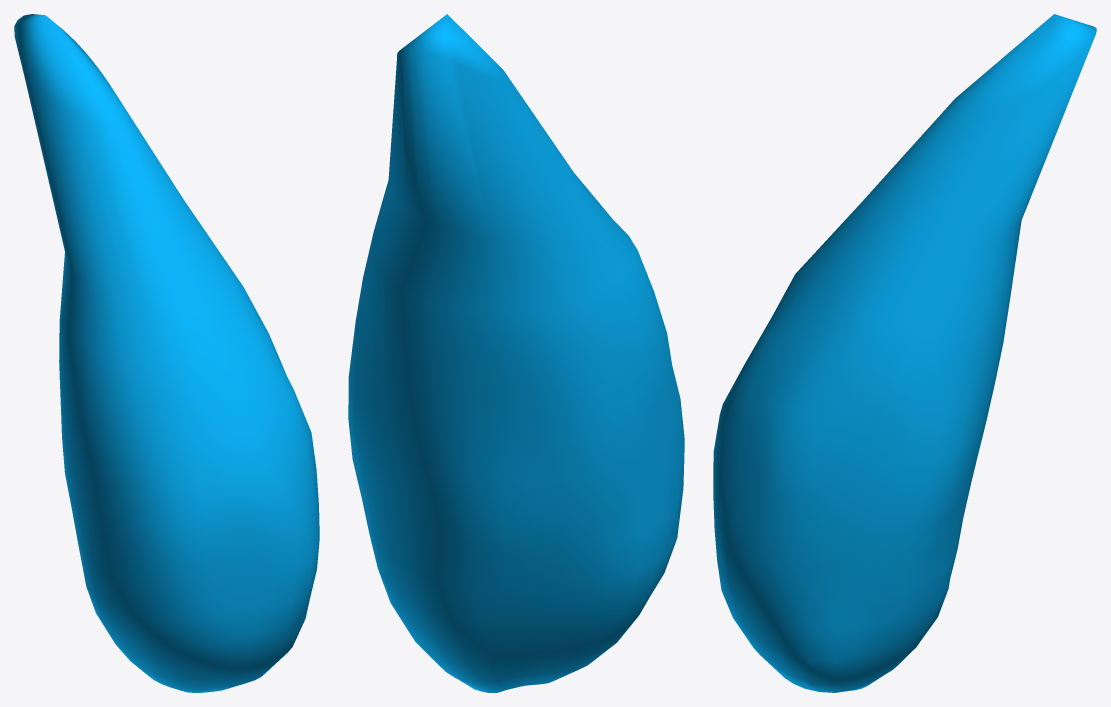
The model's file is drop.fbx.
The picture shows the model from 3 angles, left to right: view 1: azimuth 30°, elevation 25°; view 2: azimuth 150°, elevation 25°; view 3: azimuth 270°, elevation 25°; orthographic projection. The views are drawn at different scales.
Visible parts, largest first — view 1: Sphère; view 2: Sphère; view 3: Sphère.
Part boxes in pixels (x1,y1,x2,y2): Sphère: [14, 14, 319, 692]; Sphère: [348, 14, 684, 692]; Sphère: [713, 14, 1096, 692].
Size of the model in its own units: 140 by 389 by 212.
